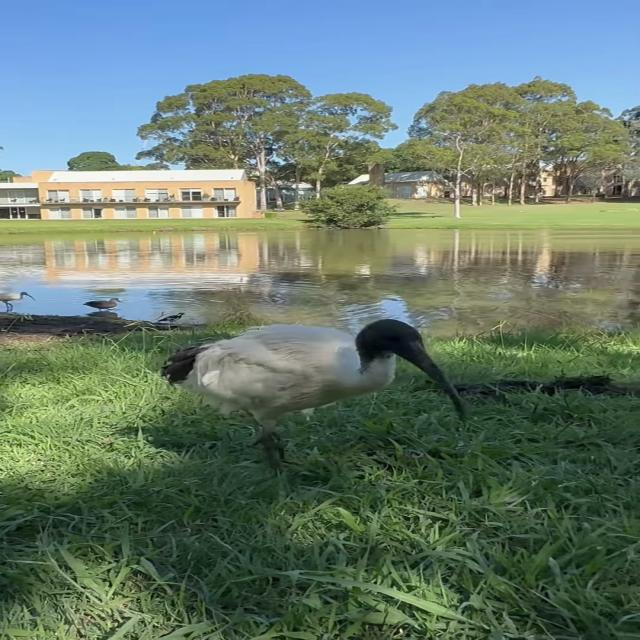Birds-Ibis: (158, 317, 472, 478), (0, 288, 37, 316)
Birds-Other: (80, 296, 126, 314), (153, 309, 191, 327)
